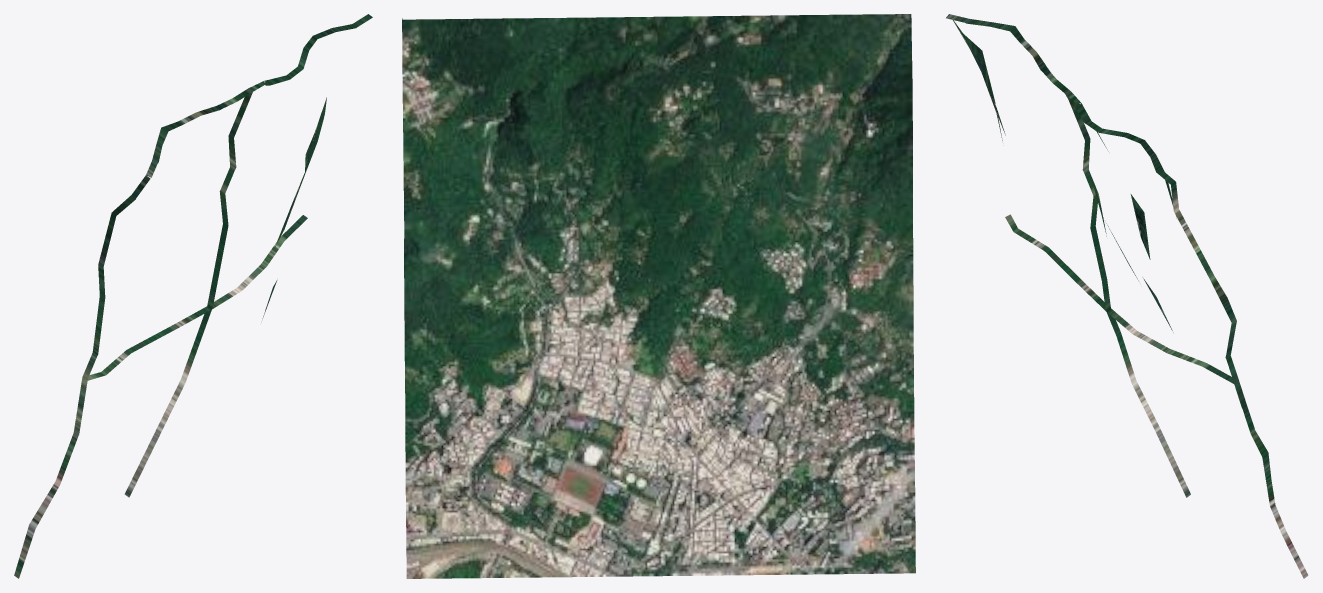
3 views of the same model, side by side, from view 1: azimuth 30°, elevation 25°; view 2: azimuth 150°, elevation 25°; view 3: azimuth 270°, elevation 25° (orthographic). The views are drawn at different scales.
Bounding box in the file's own units: 2317 × 2428 × 1797.
Materials: 1 (1 with a texture image).
